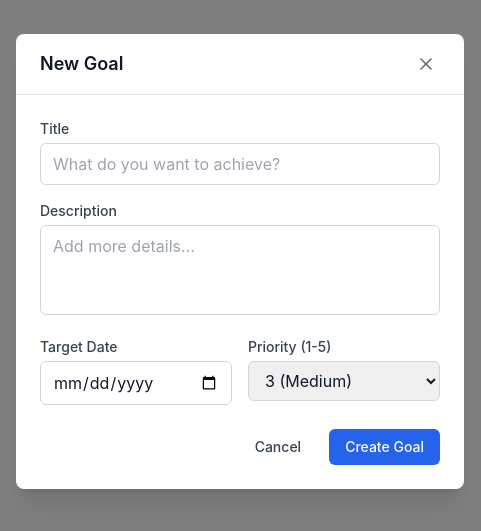
Test: GoalModal › shows error message when save fails
Type "Test Title" into the field labelled "Title" at (240, 164), box [40, 142, 440, 184]
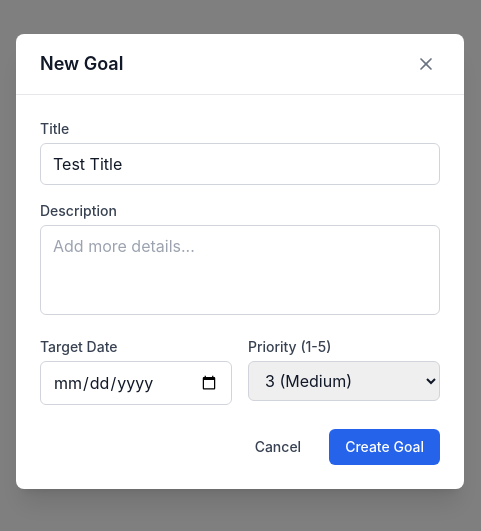
Click the button "Create Goal" at (385, 446), box [329, 428, 440, 464]
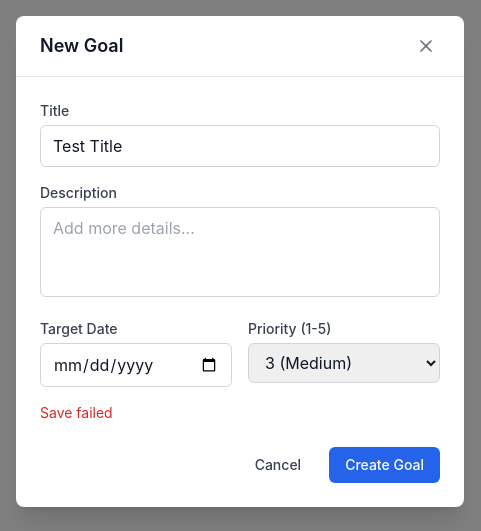
expect the text "Save failed" is shown: met, box [40, 404, 113, 420]
